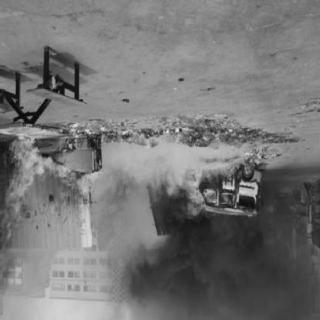Fire: (6, 127, 98, 306), (93, 113, 165, 183), (178, 162, 250, 228)
